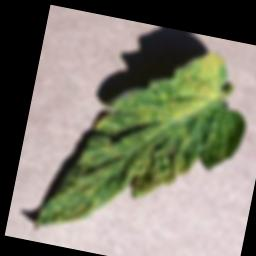Leaf_Mold: (33, 25, 256, 256)
